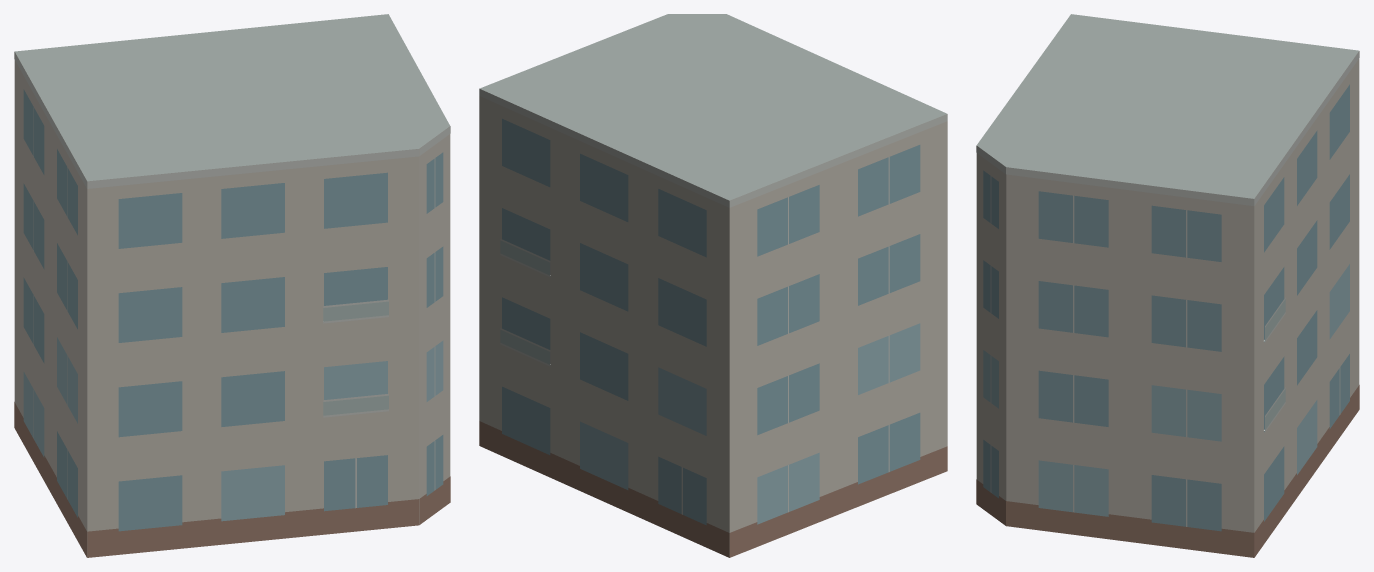
The model's file is survey-upis-32876217.glb.
3 views of the same model, side by side, from view 1: azimuth 30°, elevation 25°; view 2: azimuth 150°, elevation 25°; view 3: azimuth 270°, elevation 25° (orthographic). The views are drawn at different scales.
Parts seen in each view (by area): view 1: survey-upis-32876217.tmp; view 2: survey-upis-32876217.tmp; view 3: survey-upis-32876217.tmp.
Boxes of the visible parts, x1,y1,x2,y2 form: survey-upis-32876217.tmp: (14,14,450,557); survey-upis-32876217.tmp: (479,14,947,557); survey-upis-32876217.tmp: (976,14,1359,557).
Size of the model in its own units: 13.27 by 12 by 11.61.
